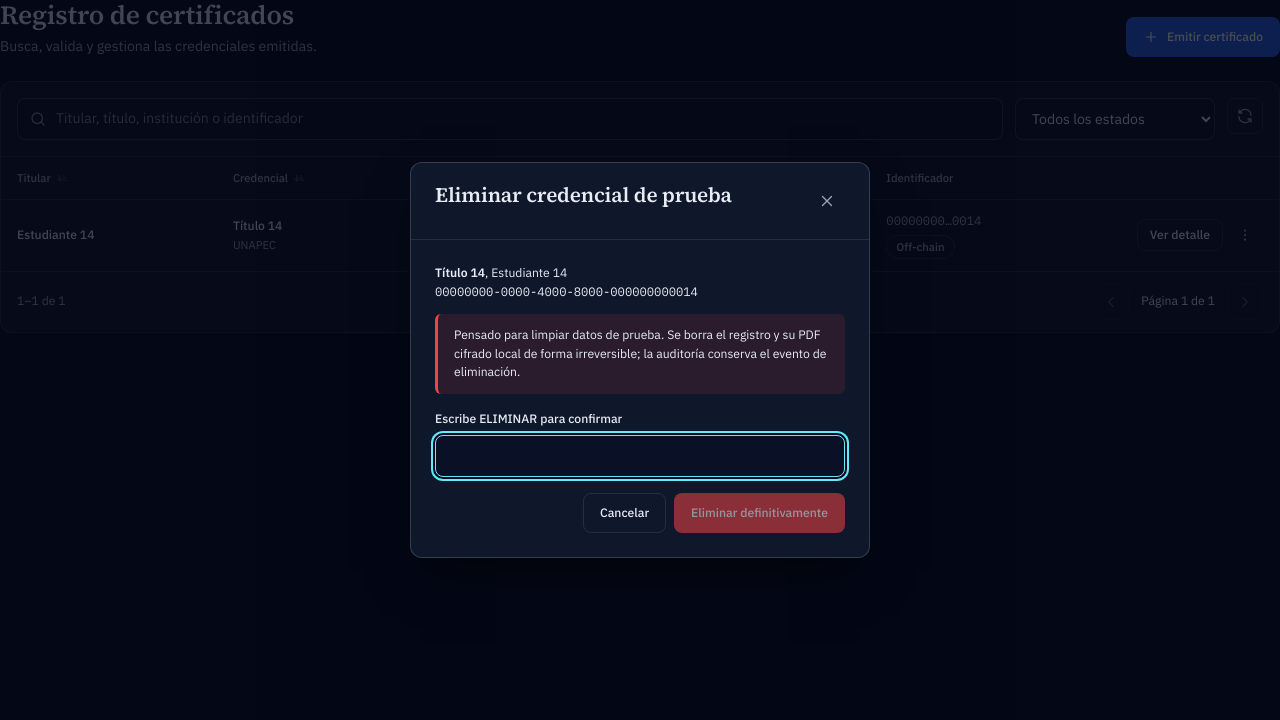
Test: certificate management › deletes an off-chain test credential only after typing ELIMINAR, and reports API conflicts
Earlier steps of the test are not shown.
Type "eliminar" into the field labelled "Escribe ELIMINAR para confirmar" at (640, 456), box [435,435,845,477]
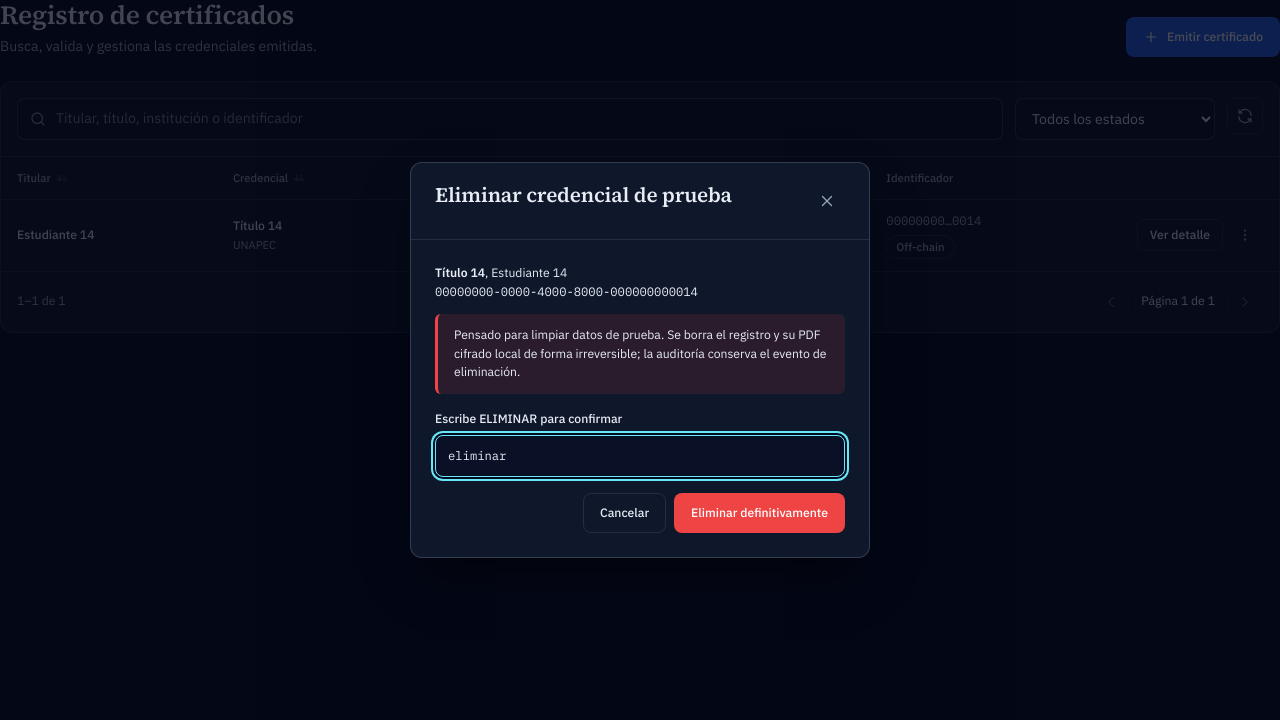
Click the button "Eliminar definitivamente" at (760, 513), box [674,493,845,533]
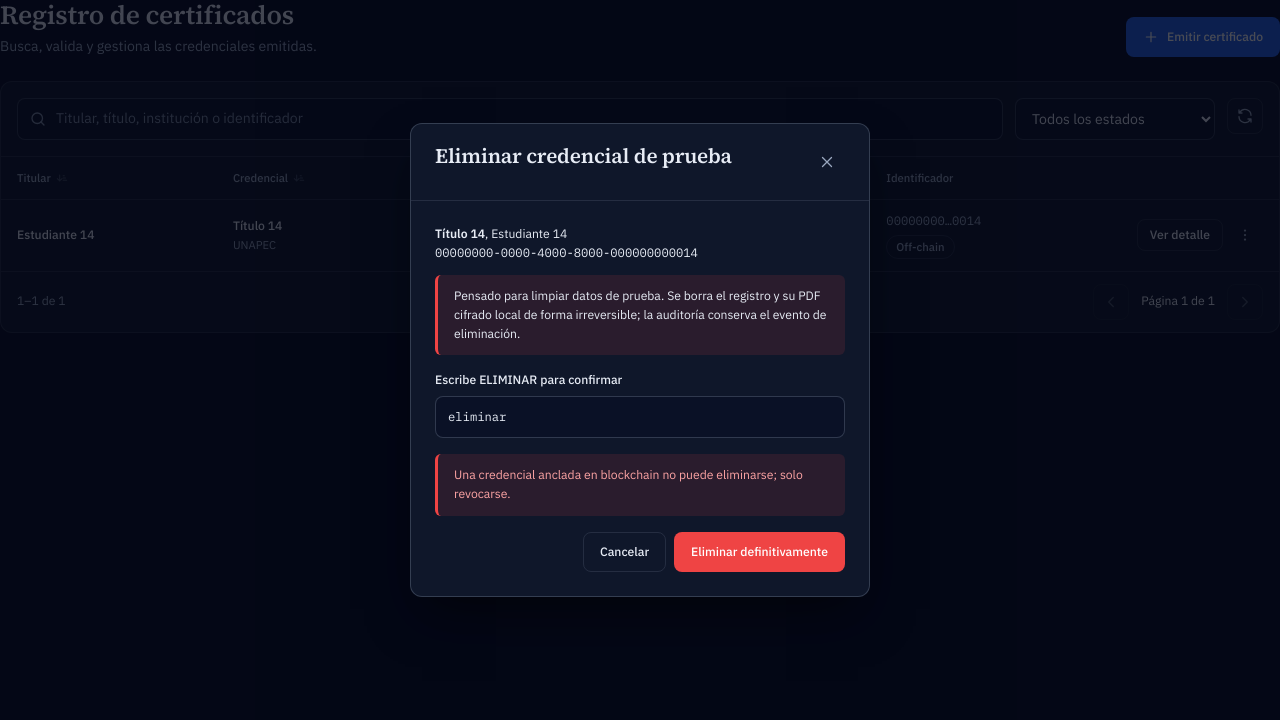
Check: the message shows "no puede eliminarse", box [454,467,803,501]
Click the button "Eliminar definitivamente" at (760, 552), box [674,532,845,572]
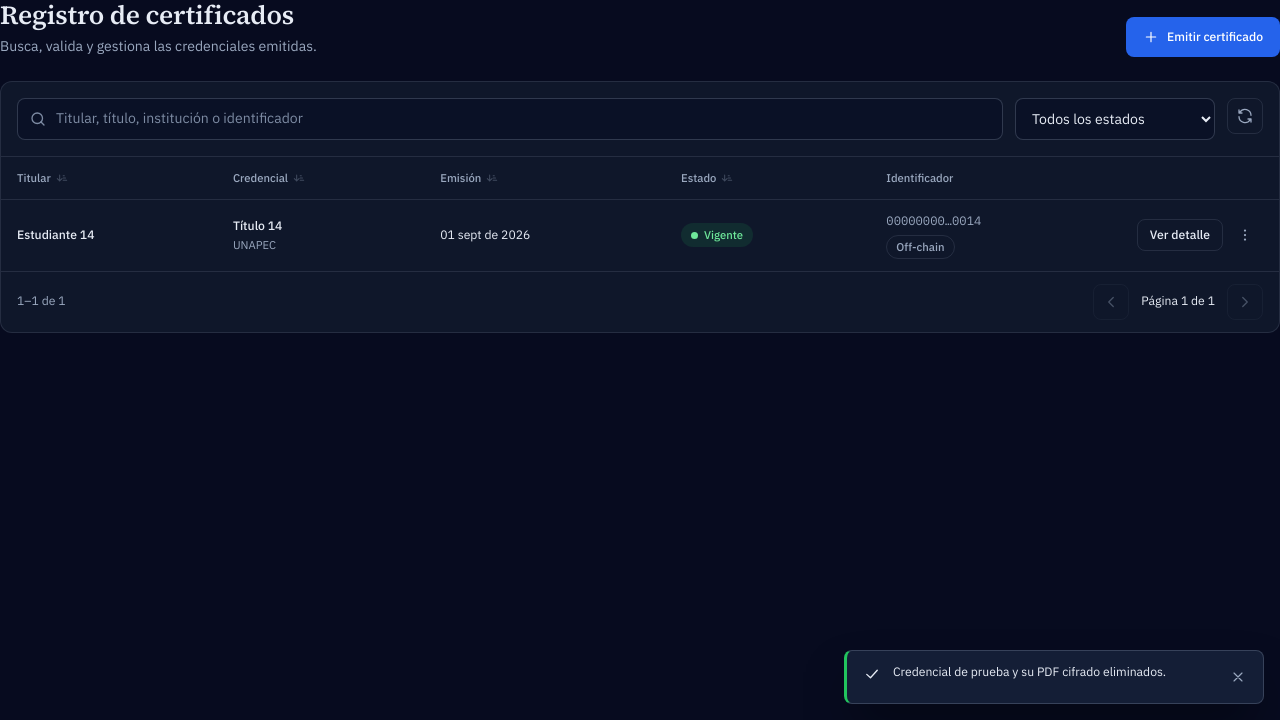
Check: the text "Credencial de prueba y su PDF cifrado eliminados." is shown, box [893,663,1211,682]
